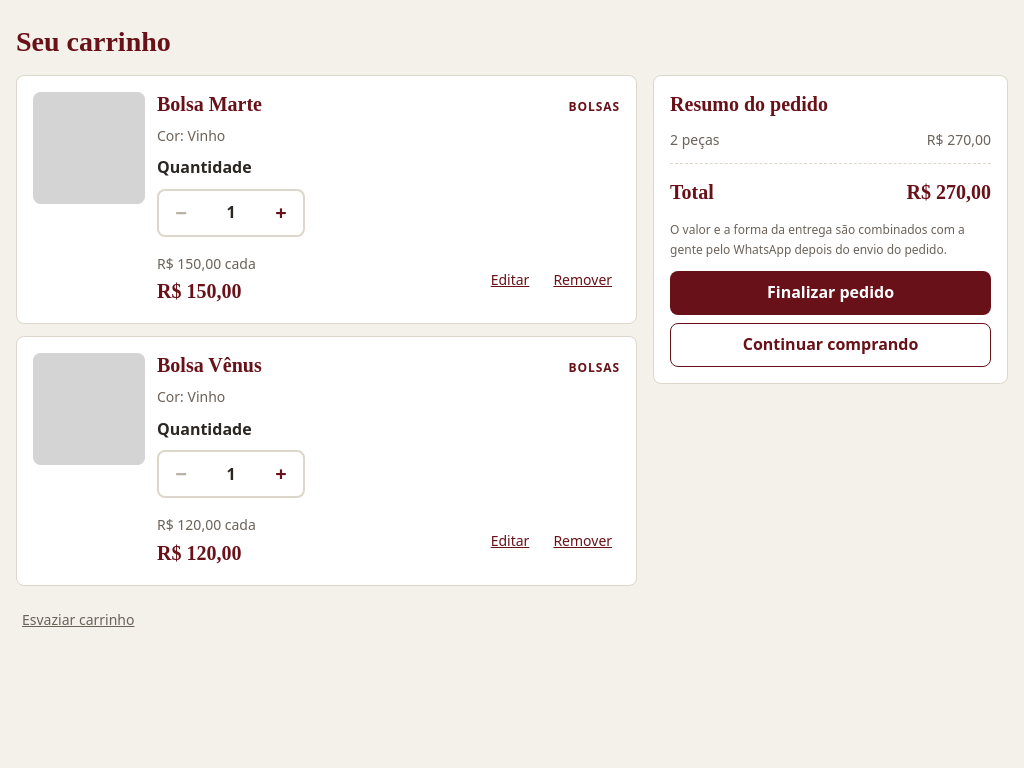
Test: CarrinhoPage › remove um item da lista
Click the 1st button "Remover".
click(583, 280)  # box [545,258,620,302]
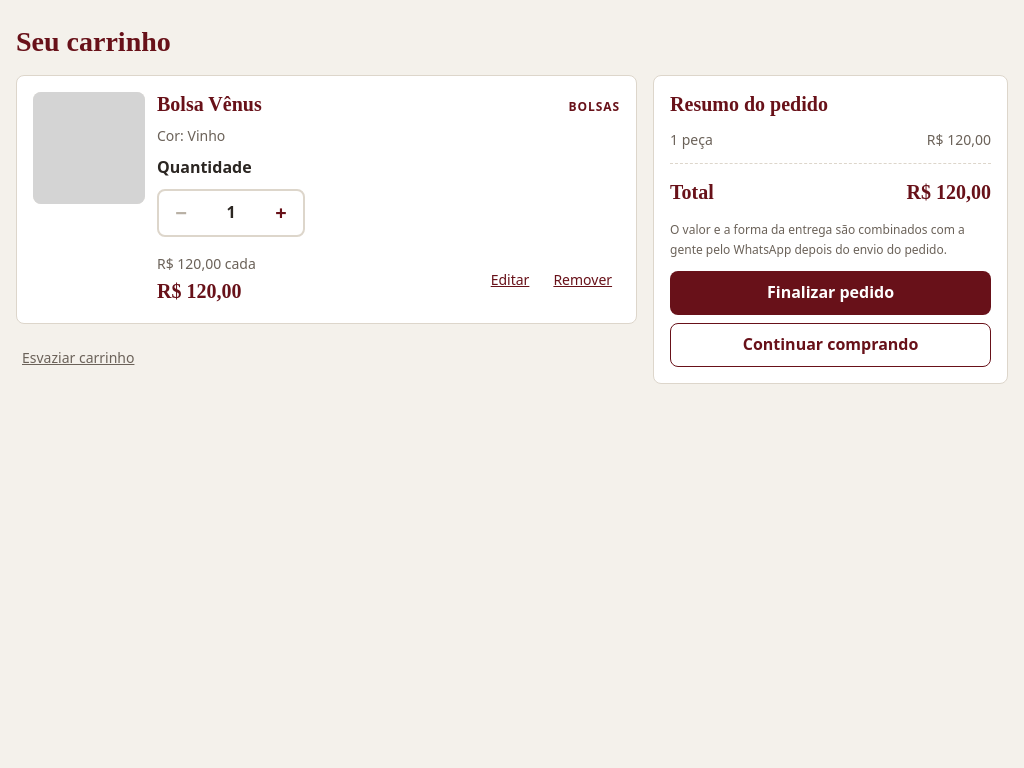
Expected: the heading "Bolsa Vênus" is shown, [157,92,262,117]
Now the heading "Bolsa Marte" is gone
